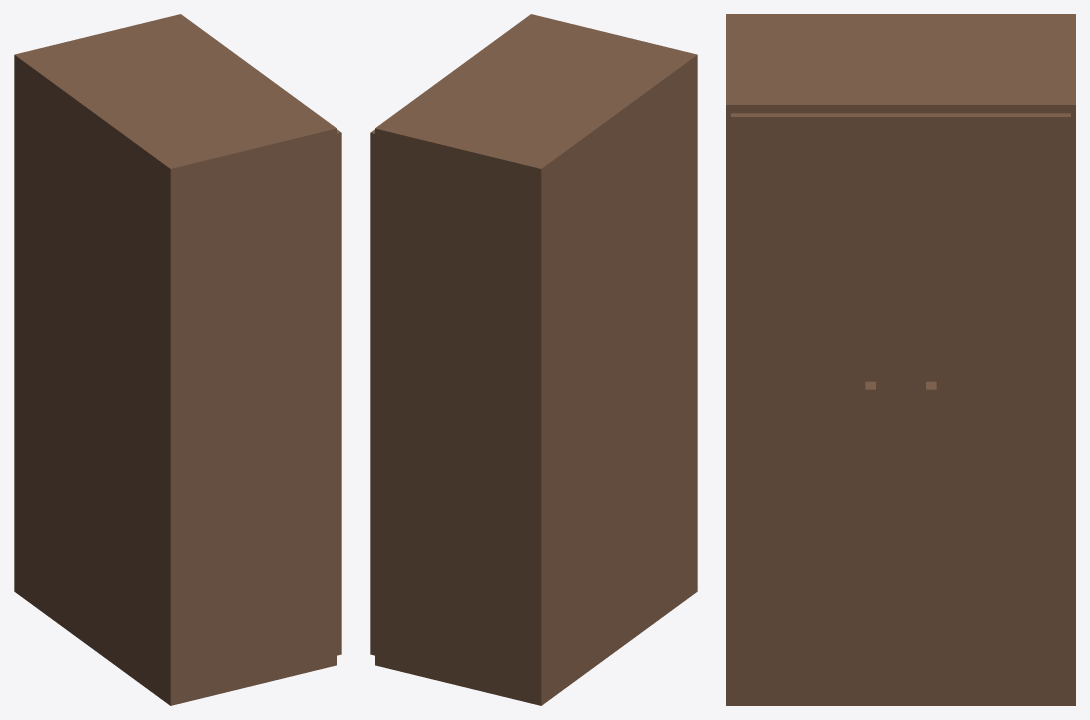
File: cupboard.fbx
3 renders of one model, left to right at view 1: azimuth 30°, elevation 25°; view 2: azimuth 150°, elevation 25°; view 3: azimuth 270°, elevation 25°, orthographic. The views are drawn at different scales.
Visible parts, largest first — view 1: Cupboard, Cupb Left Door; view 2: Cupboard, Cupb Right Door; view 3: Cupb Left Door, Cupb Right Door, Cupboard.
Part boxes in pixels (x1,y1,x2,y2): Cupboard: (14,14,336,705); Cupb Left Door: (337,129,341,655); Cupboard: (375,14,697,705); Cupb Right Door: (370,129,374,655); Cupb Left Door: (731,113,900,701); Cupb Right Door: (901,113,1070,701); Cupboard: (726,14,1075,705).
Size of the model in its own units: 5436 by 14841 by 7831.
